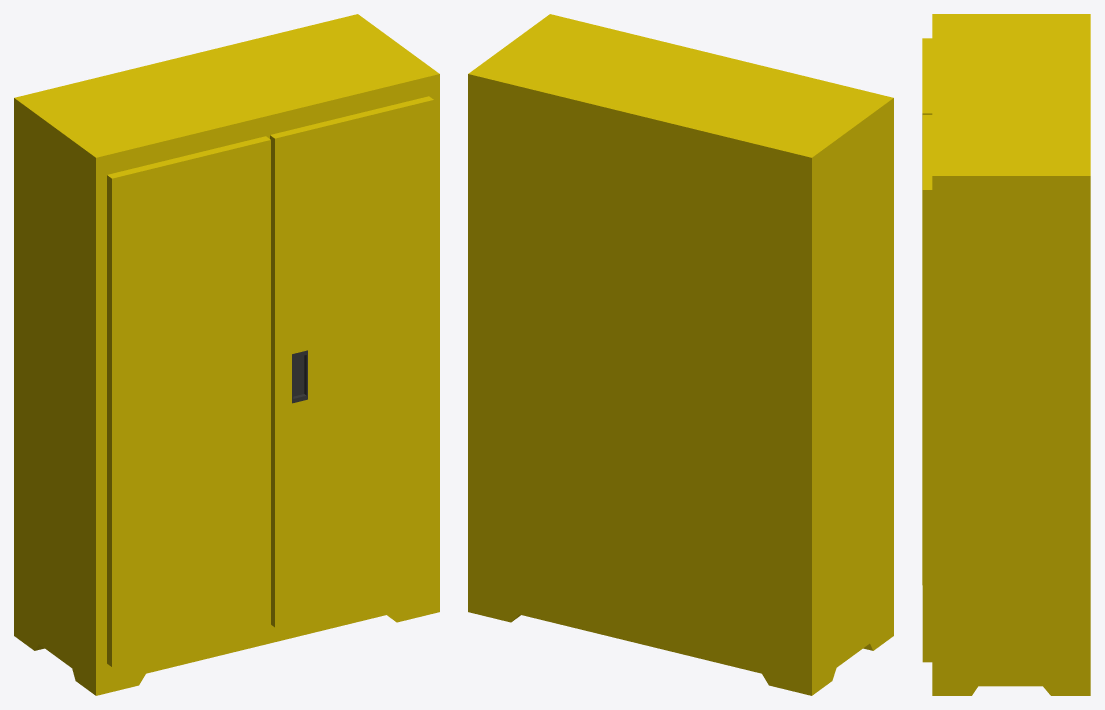
The model's file is flammable_cabinet_no_stickers.fbx.
3 views of the same model, side by side, from view 1: azimuth 30°, elevation 25°; view 2: azimuth 150°, elevation 25°; view 3: azimuth 270°, elevation 25° (orthographic). The views are drawn at different scales.
Visible parts, largest first — view 1: Cube; view 2: Cube; view 3: Cube.
Part boxes in pixels (bbox=[...]): Cube: bbox=[14, 14, 439, 695]; Cube: bbox=[468, 14, 893, 695]; Cube: bbox=[922, 14, 1090, 695].
Bounding box in the file's own units: 218 × 326 × 95.58.
